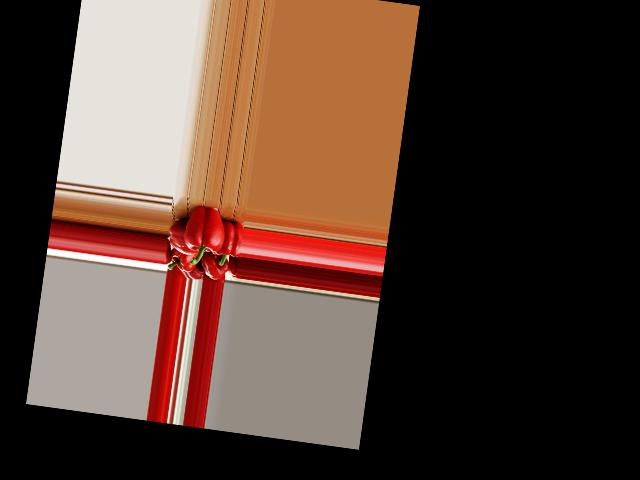bell_pepper: (165, 246, 198, 274)
